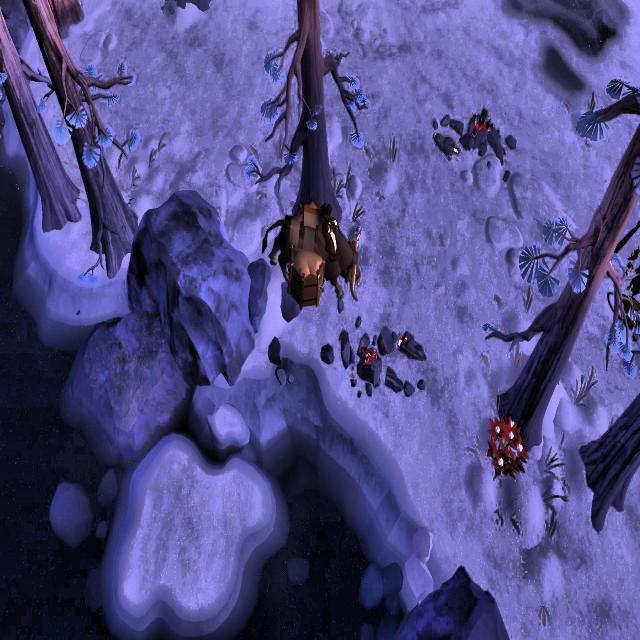fiber_t5: (485, 412, 527, 480)
